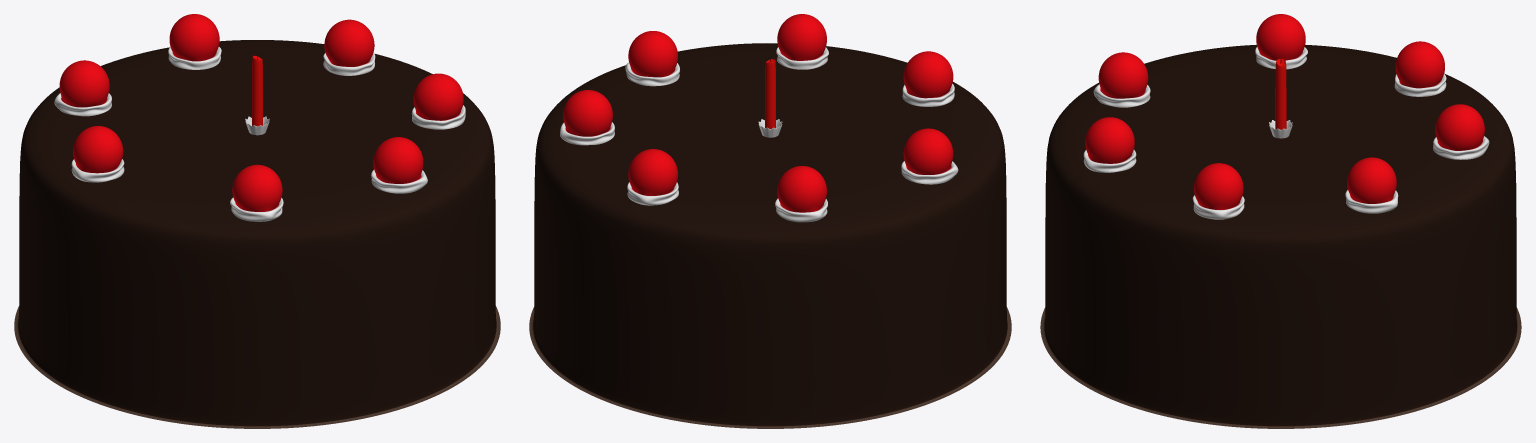
Rendered from cake.fbx.
3 renders of one model, left to right at view 1: azimuth 30°, elevation 25°; view 2: azimuth 150°, elevation 25°; view 3: azimuth 270°, elevation 25°, orthographic.
Parts seen in each view (by area): view 1: cake, decoration, candle; view 2: cake, decoration, candle; view 3: cake, decoration, candle.
Boxes of the visible parts, x1=… form: cake: x1=14, y1=40, x2=500, y2=428; decoration: x1=54, y1=14, x2=465, y2=221; candle: x1=245, y1=54, x2=269, y2=135; cake: x1=529, y1=43, x2=1011, y2=428; decoration: x1=560, y1=14, x2=958, y2=222; candle: x1=758, y1=57, x2=782, y2=137; cake: x1=1040, y1=45, x2=1521, y2=428; decoration: x1=1083, y1=14, x2=1489, y2=219; candle: x1=1269, y1=59, x2=1292, y2=138.
Size of the model in its own units: 2.03 by 1.25 by 2.03.
